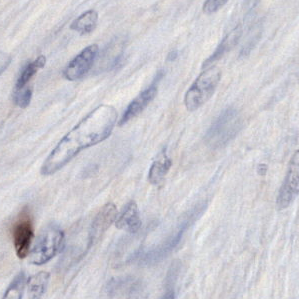Lymphocyte: (13, 220, 35, 259)
